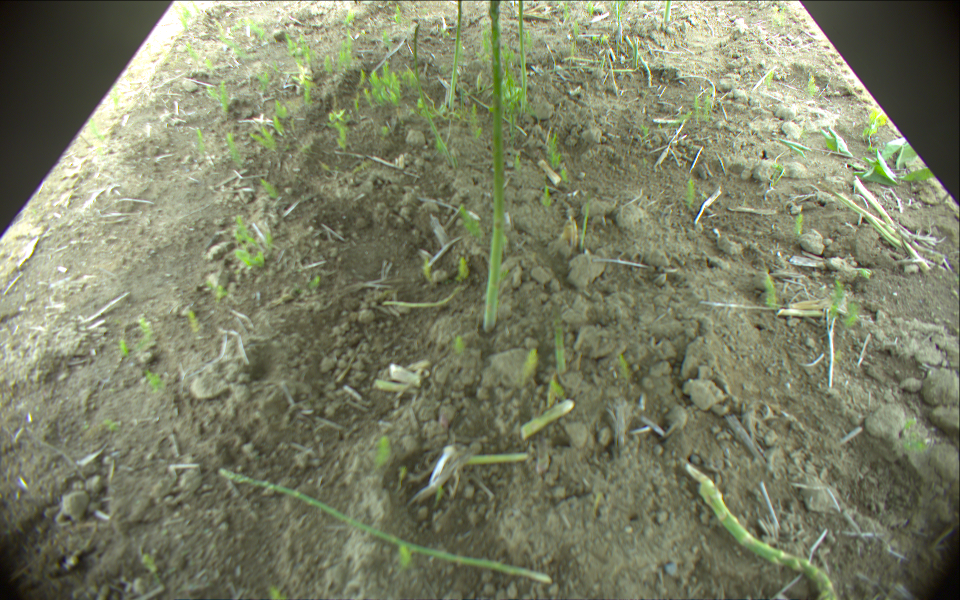aspa: (217, 469, 550, 582), (692, 468, 838, 600), (828, 189, 931, 272), (483, 1, 505, 332), (412, 22, 452, 167), (518, 398, 574, 439), (624, 35, 658, 93), (447, 1, 463, 112), (518, 1, 528, 112), (552, 300, 567, 372), (631, 39, 639, 70), (663, 1, 672, 23)
